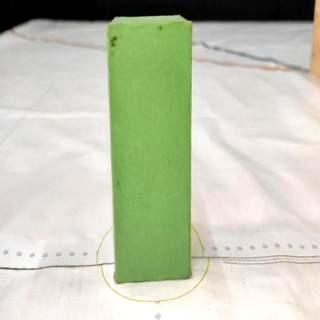greenbox: (108, 13, 194, 292)
